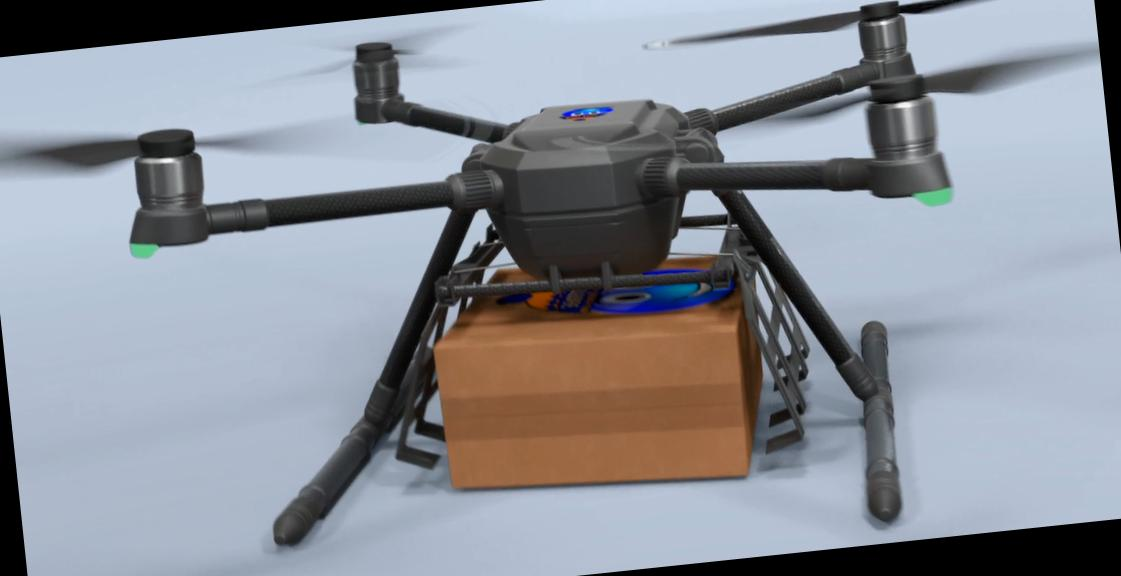drone: (10, 0, 1115, 359)
